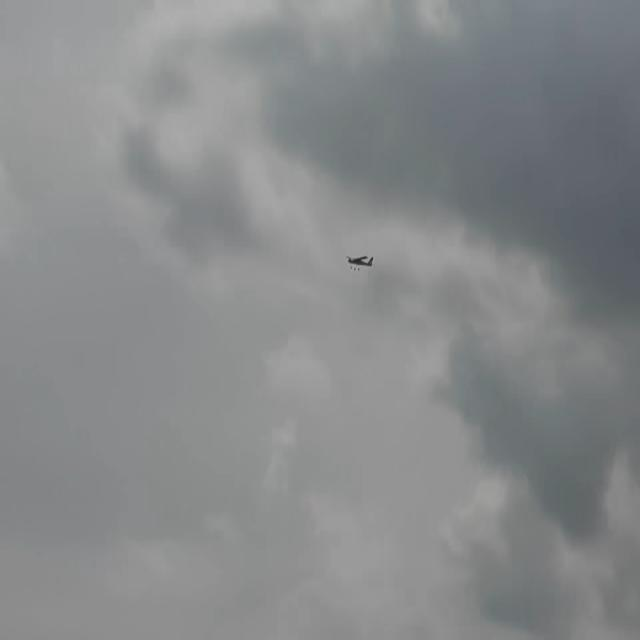iha: (346, 251, 375, 273)
